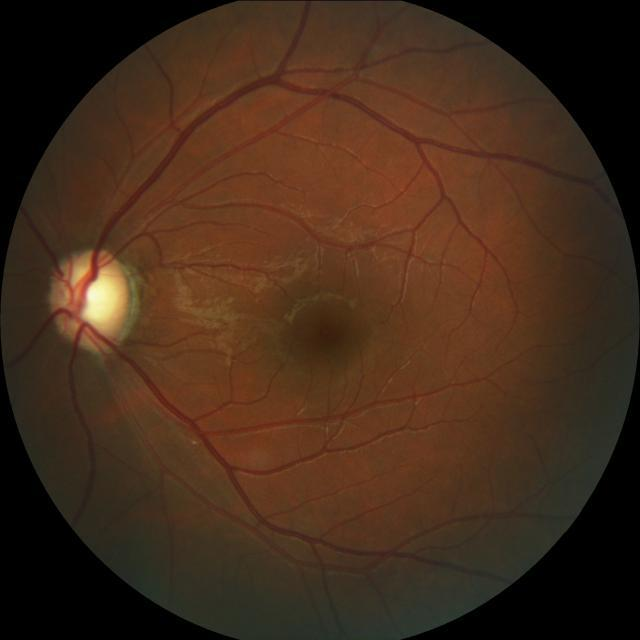OC: (56, 264, 121, 331)
OD: (48, 246, 130, 348)
